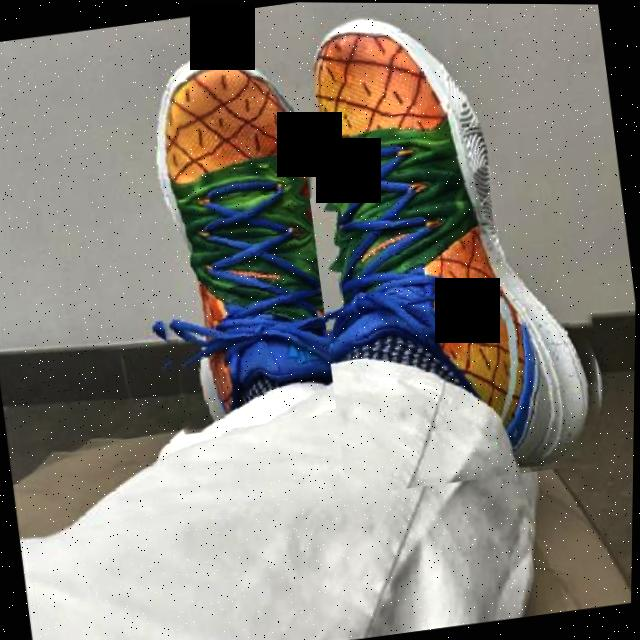shoe: (282, 2, 629, 498), (107, 28, 364, 439)
